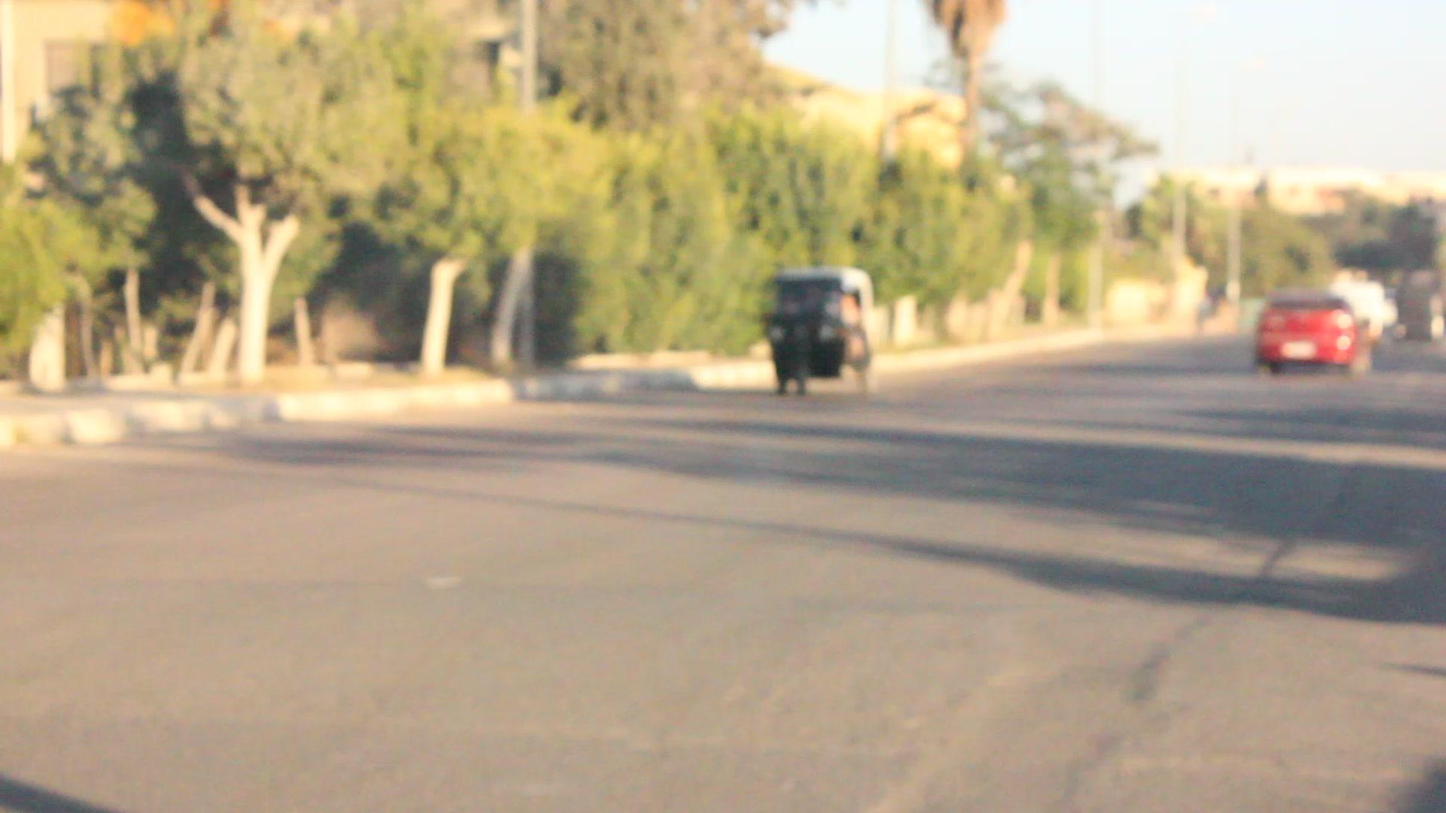Bump: (26, 559, 1416, 813)
